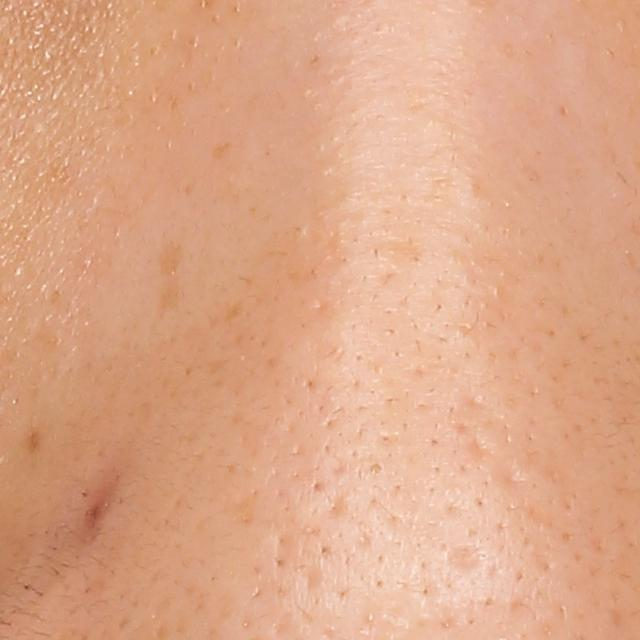atrophic_scar: (444, 542, 488, 572), (272, 532, 297, 576), (300, 561, 328, 598)
melasma: (153, 234, 192, 283), (207, 138, 231, 162)
nevus: (20, 427, 41, 456)
